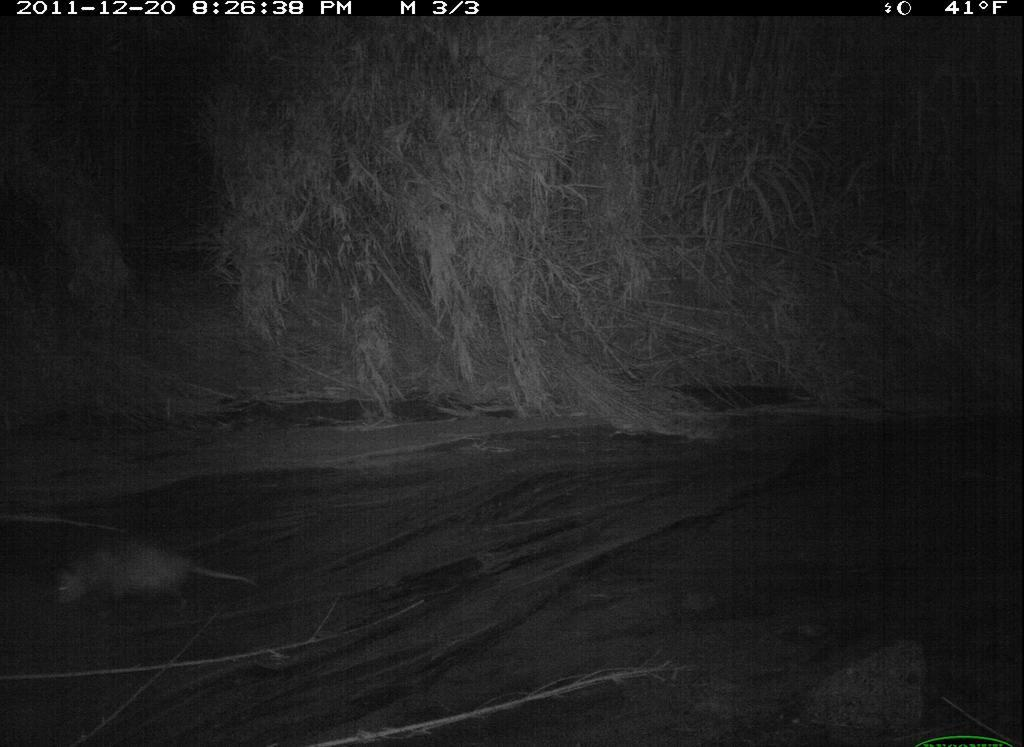opossum: (43, 518, 254, 625)
